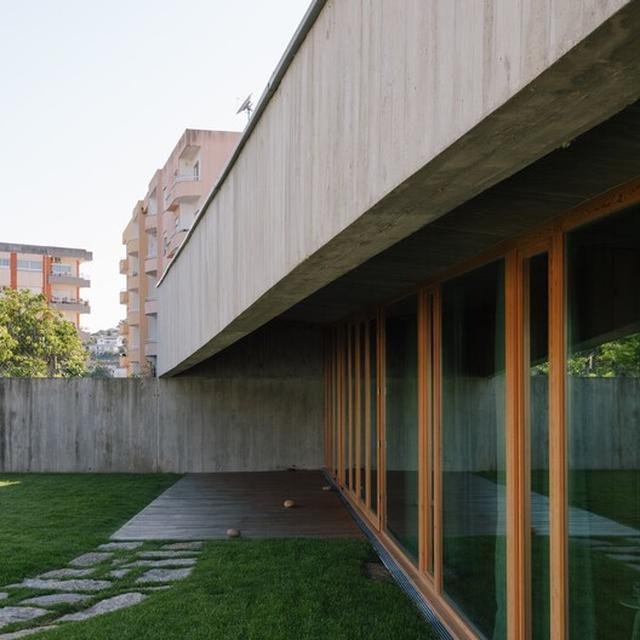building: (154, 0, 640, 640), (120, 127, 244, 374), (0, 240, 92, 354)
